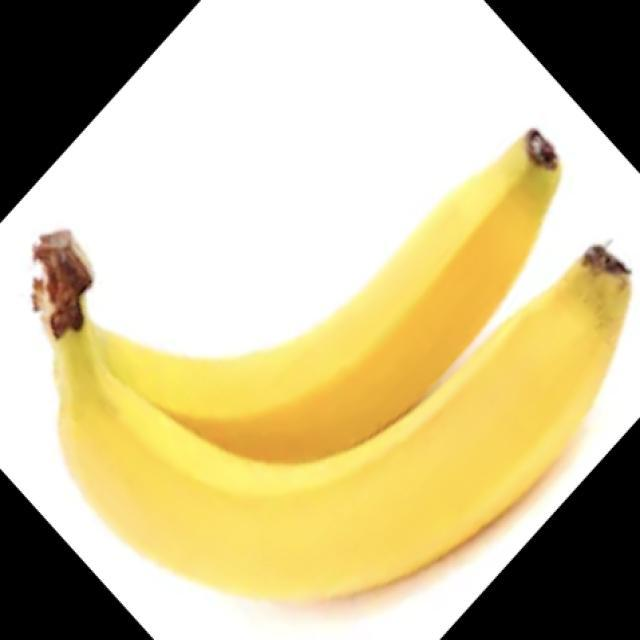Banana: (29, 127, 633, 603)
